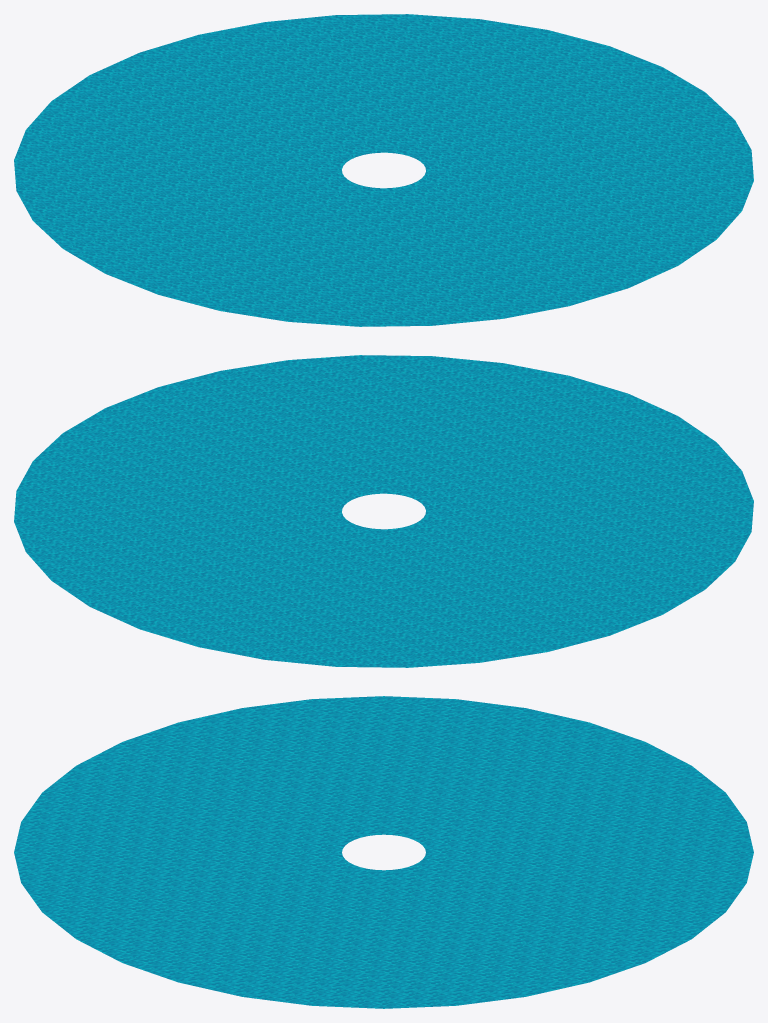
File: Water_Surface.fbx
The picture shows the model from 3 angles, top to bottom: view 1: azimuth 30°, elevation 25°; view 2: azimuth 150°, elevation 25°; view 3: azimuth 270°, elevation 25°; orthographic projection.
Visible parts, largest first — view 1: Water_Surface; view 2: Water_Surface; view 3: Water_Surface.
Part boxes in pixels (<box>): Water_Surface: <box>14,14,753,326</box>; Water_Surface: <box>14,355,753,667</box>; Water_Surface: <box>14,696,753,1008</box>.
Bounding box in the file's own units: 36368 × 0.00593 × 36368.
